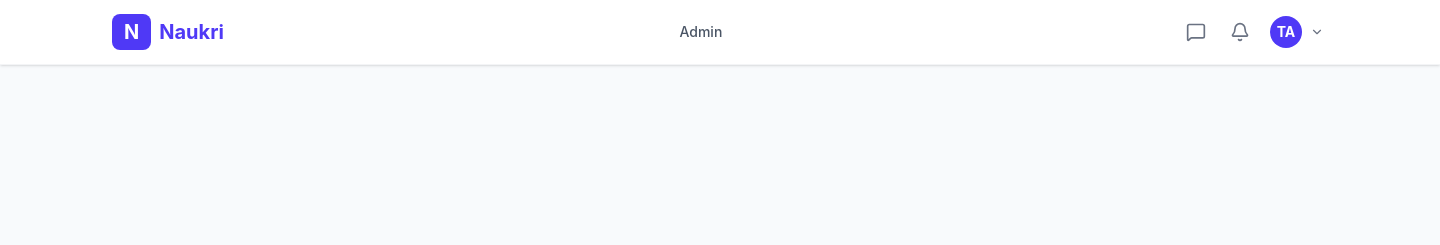
Navbar — admin › shows Admin Panel link in dropdown for admin user
Click the button "TA": (1297, 32) left=1266, top=12, right=1328, bottom=52
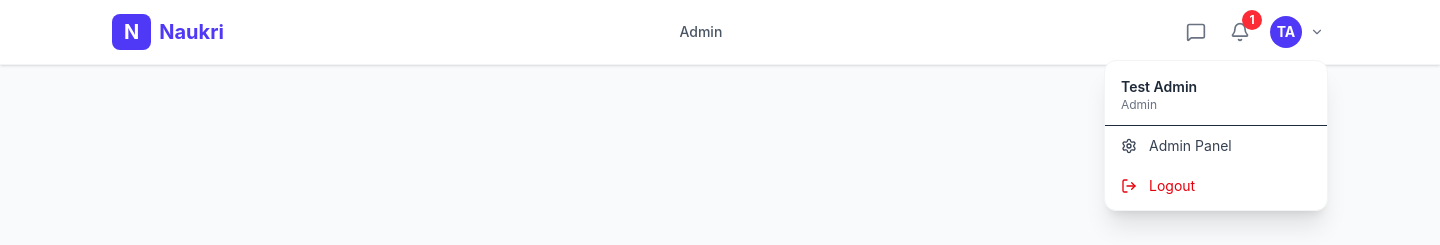
Expected: the link "Admin Panel" is shown, left=1121, top=137, right=1232, bottom=154
